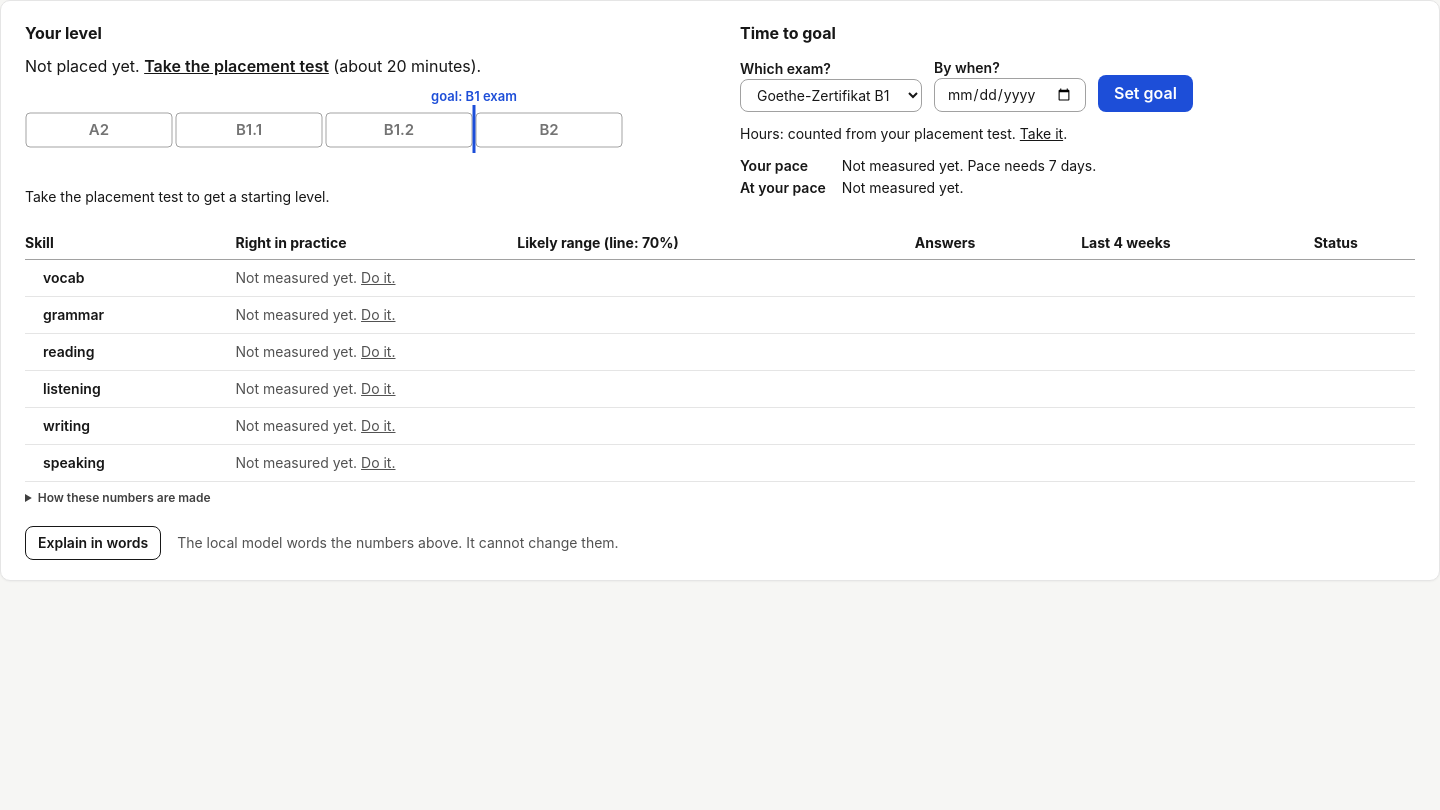
Test case: explain: shown only after the click, with the source line
Click the button "Explain in words": (93, 543) [25, 526, 161, 560]
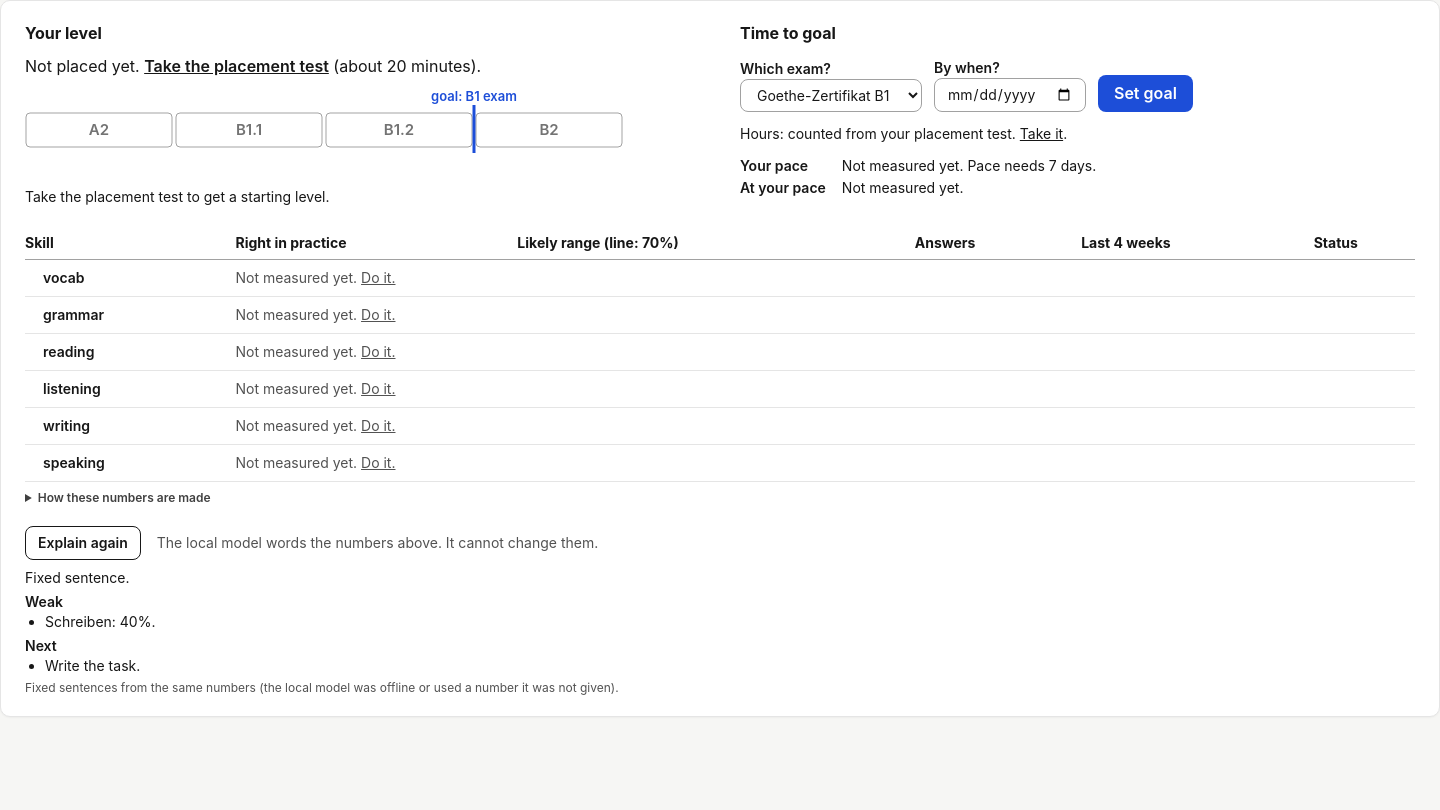
Expected: the element with test id "insight" is shown, [25, 569, 619, 695]
Expected: the text "Fixed sentence." is shown, [25, 569, 130, 586]
Expected: the text "Fixed sentences from the same numbers" is shown, [25, 680, 619, 695]
